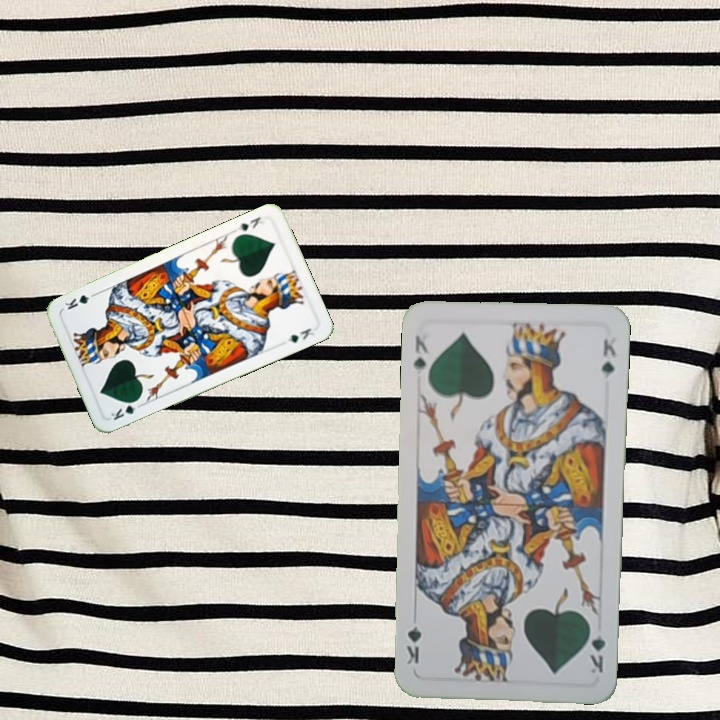GK: (585, 619, 607, 676), (107, 395, 145, 423), (409, 332, 431, 373), (230, 212, 266, 235)
